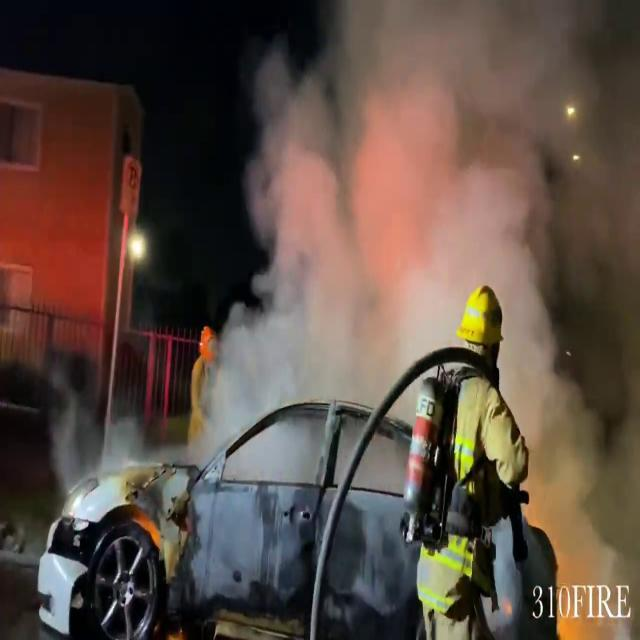Smoke: (187, 0, 640, 532)
